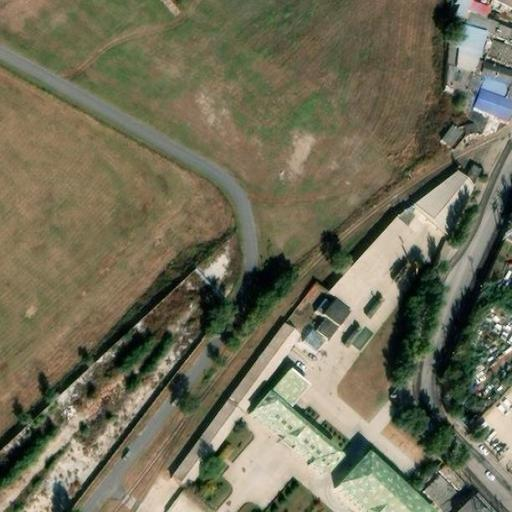building: (322, 205, 437, 336), (246, 396, 337, 483), (164, 400, 241, 493), (223, 324, 297, 413), (328, 453, 424, 512), (408, 169, 472, 236), (435, 30, 480, 107), (281, 272, 323, 323), (264, 374, 306, 416), (466, 87, 511, 120), (460, 11, 506, 42), (310, 305, 345, 342), (417, 473, 451, 507), (452, 0, 491, 21), (455, 112, 483, 138), (472, 73, 503, 95), (435, 125, 456, 148), (501, 26, 512, 43)
